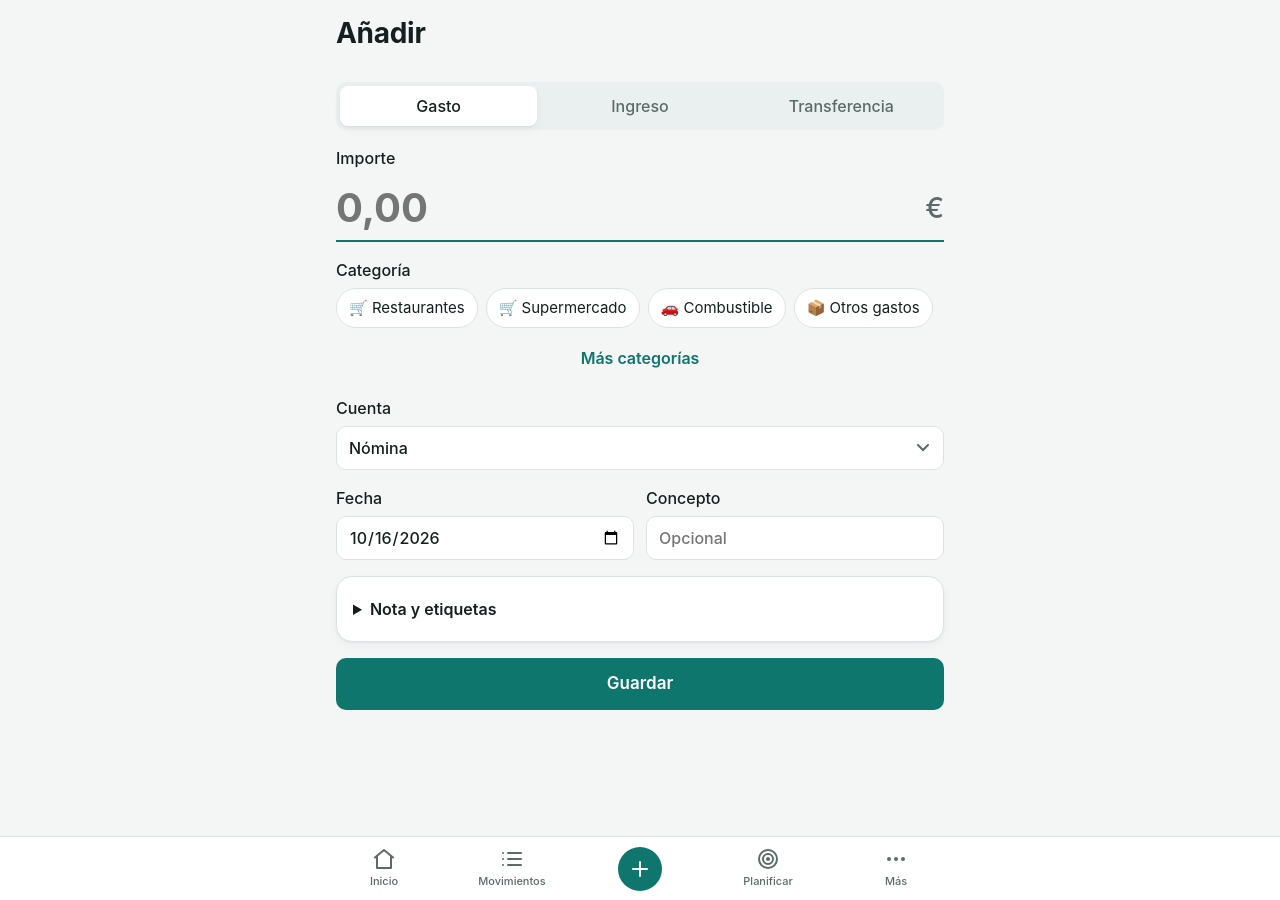
Test case: quick add › explains an invalid amount
In the field labelled "Importe": x=627, y=208 [336,176,917,240], type "doce"
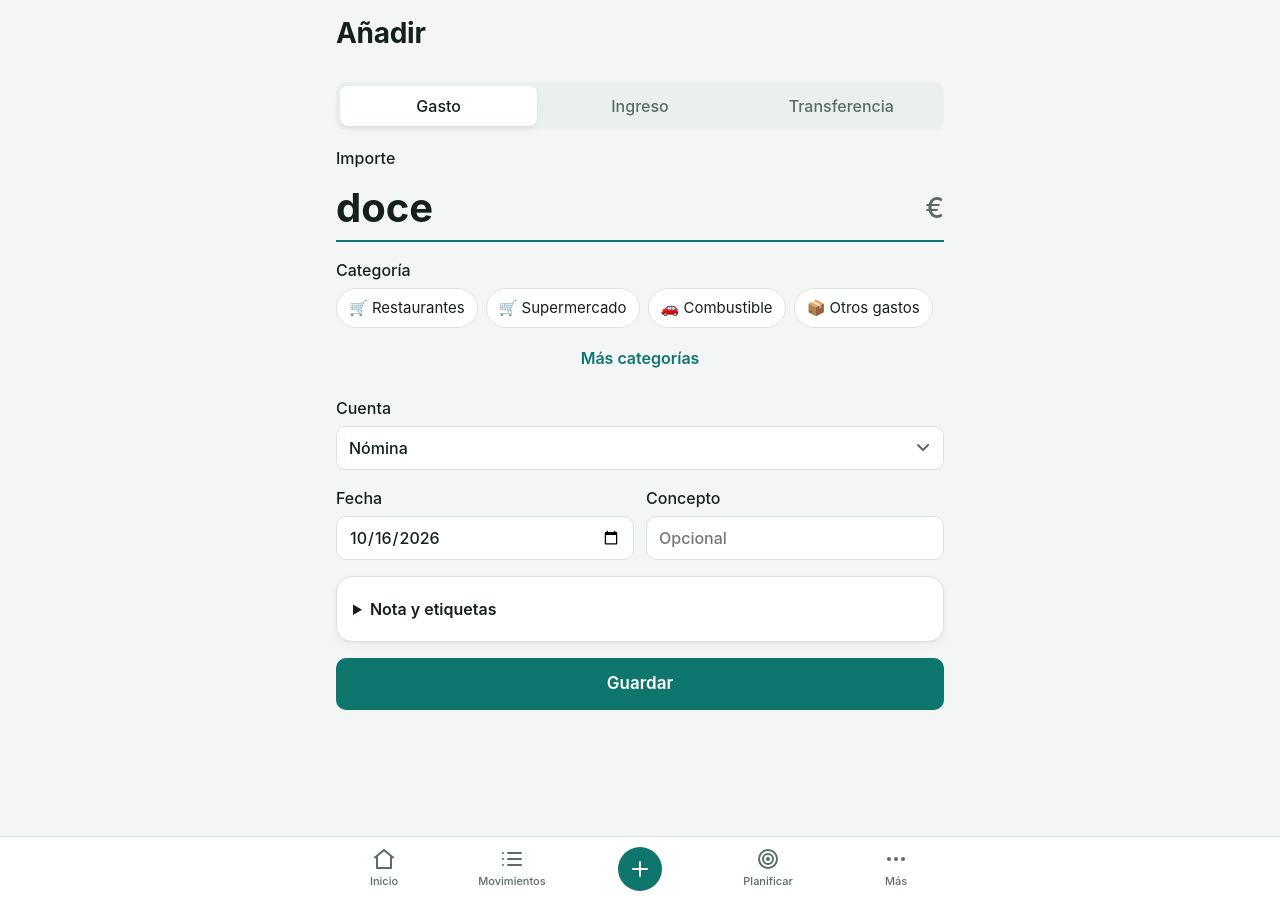
Click the button "Guardar": x=640, y=684 [336,658,944,710]
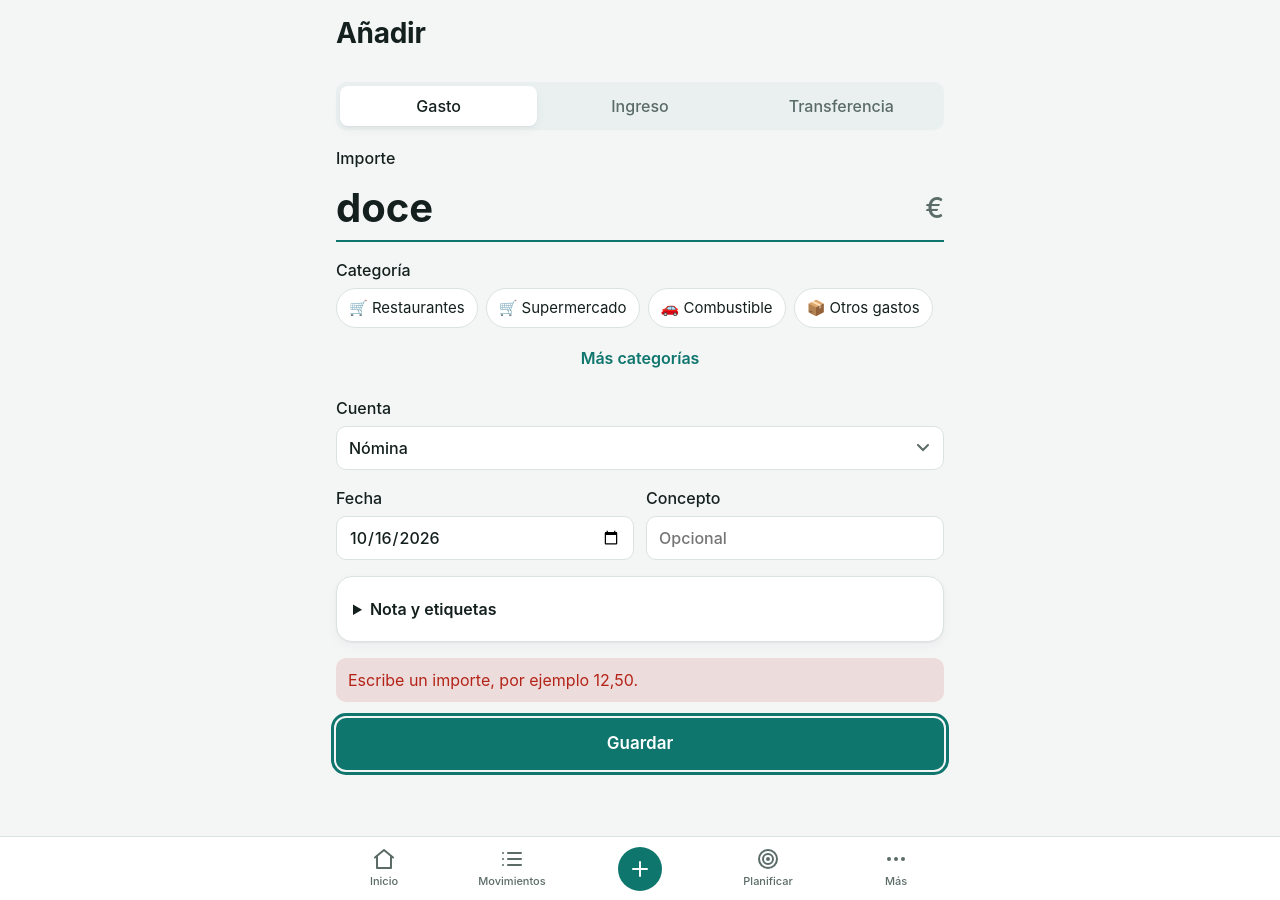
Check: the message "Escribe un importe, por ejemplo 12,50." is shown, box [336,658,944,702]
